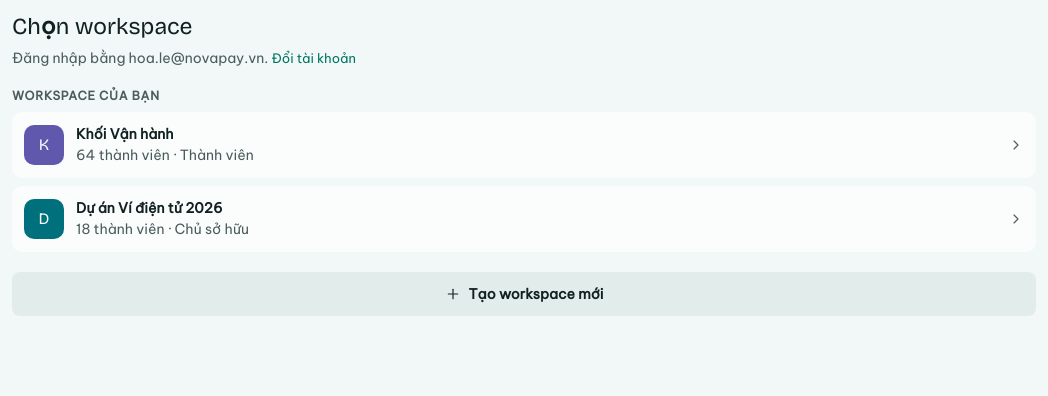
Scenario: Workspace selection: entering a workspace › stays on the list and says why when the workspace cannot be opened
Click the button "D Dự án Ví điện tử 2026 18 thành viên · Chủ sở hữu" at coordinates (44, 219), box [12,186,1036,252]
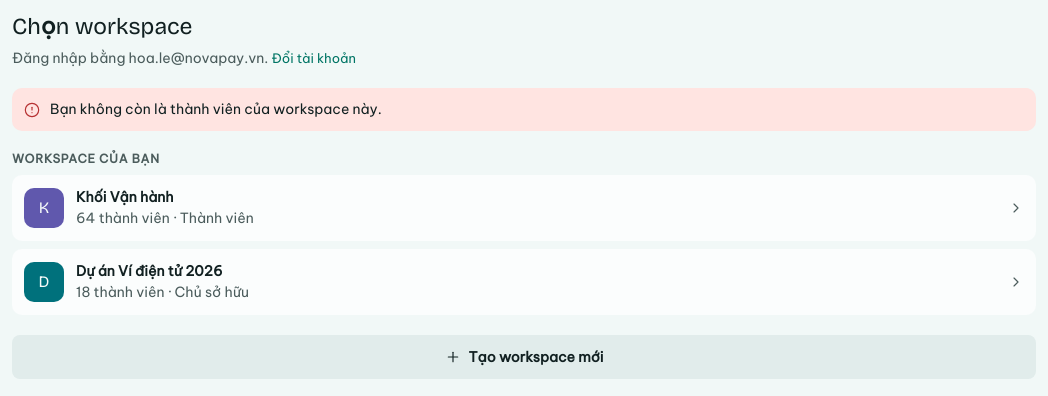
expect the button "D Dự án Ví điện tử 2026 18 thành viên · Chủ sở hữu" is enabled: met, box [12,249,1036,315]
expect the message shows "không còn là thành viên": met, box [50,100,382,118]
